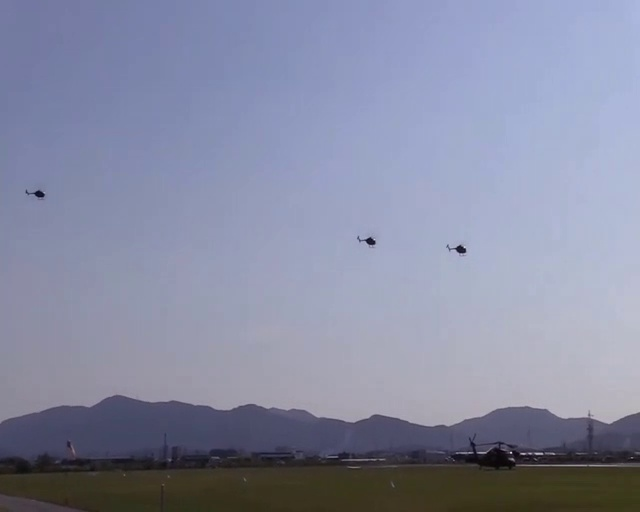HELICOPTER: (357, 234, 376, 247)
